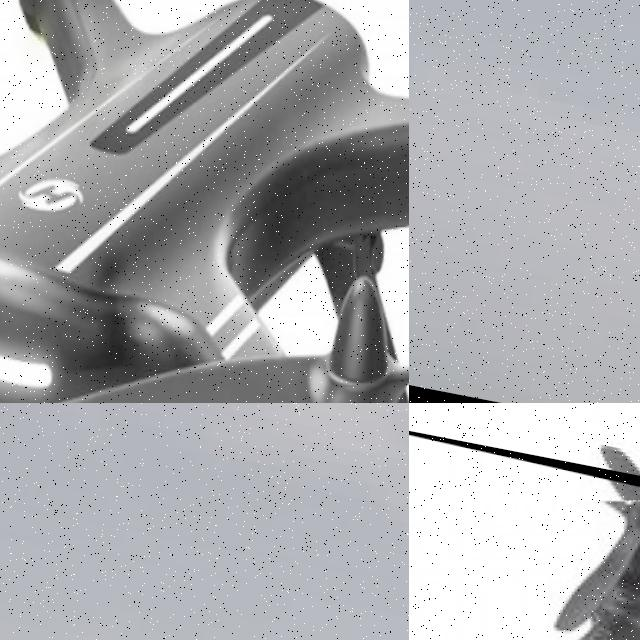drone: (0, 0, 409, 403), (409, 403, 640, 640)
